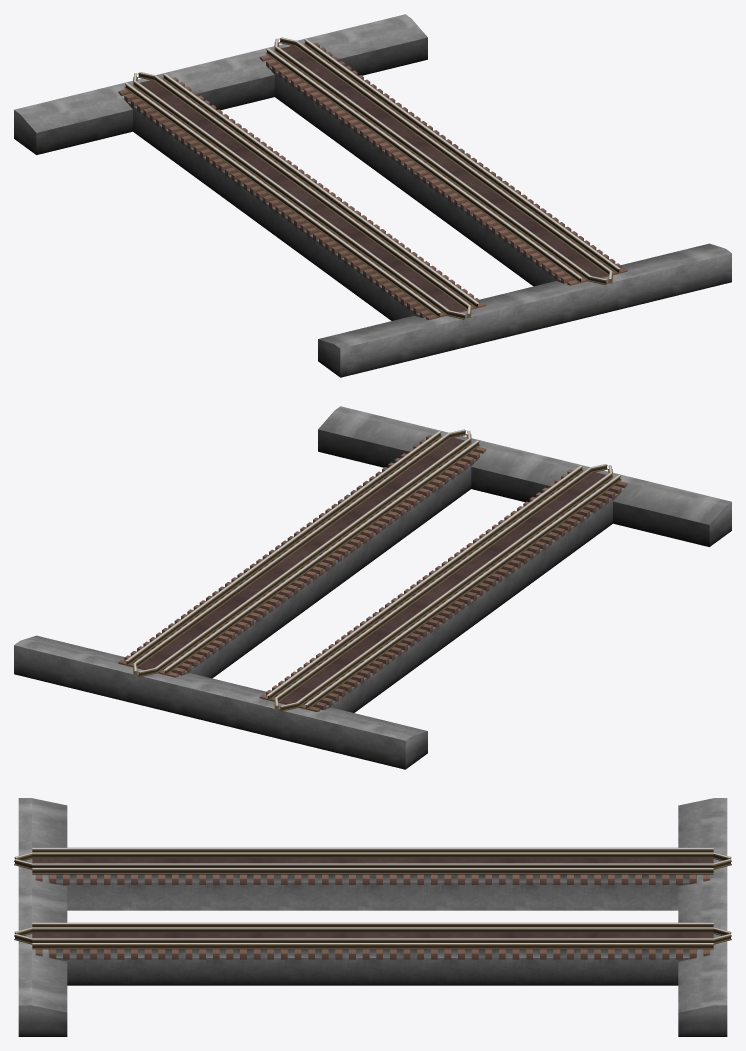
File: MEI_2RAIL_BRIDGE50_NOBANISTER.glb
3 renders of one model, top to bottom at view 1: azimuth 30°, elevation 25°; view 2: azimuth 150°, elevation 25°; view 3: azimuth 270°, elevation 25°, orthographic. The views are drawn at different scales.
Visible parts, largest first — view 1: obj16, J08, J00, obj8, obj10, obj4, obj9, obj11, obj5, obj12, bone0; view 2: obj16, J00, J08, obj8, obj10, bone0, obj11, obj5, obj9, obj12, obj4; view 3: obj16, J00, J08, obj10, obj8, obj9, obj12, obj5, obj11, obj4, bone0.
Part boxes in pixels (bbox=[...]): obj16: bbox=[124, 39, 621, 320]; J08: bbox=[318, 243, 731, 377]; J00: bbox=[14, 14, 427, 154]; obj8: bbox=[193, 98, 432, 181]; obj10: bbox=[350, 213, 589, 296]; obj4: bbox=[394, 245, 627, 319]; obj9: bbox=[275, 157, 508, 236]; obj11: bbox=[237, 130, 470, 208]; obj5: bbox=[313, 185, 546, 264]; obj12: bbox=[156, 70, 389, 149]; bone0: bbox=[118, 43, 351, 121]; obj16: bbox=[124, 431, 621, 712]; J00: bbox=[14, 635, 427, 769]; J08: bbox=[318, 406, 731, 546]; obj8: bbox=[193, 577, 432, 660]; obj10: bbox=[350, 462, 589, 545]; bone0: bbox=[118, 637, 351, 711]; obj11: bbox=[237, 549, 470, 628]; obj5: bbox=[313, 494, 546, 573]; obj9: bbox=[275, 522, 508, 600]; obj12: bbox=[156, 609, 389, 688]; obj4: bbox=[394, 435, 627, 513]; obj16: bbox=[32, 847, 713, 985]; J00: bbox=[678, 798, 731, 1036]; J08: bbox=[14, 798, 67, 1036]; obj10: bbox=[117, 874, 205, 959]; obj8: bbox=[458, 874, 546, 959]; obj9: bbox=[294, 874, 369, 959]; obj12: bbox=[553, 874, 628, 959]; obj5: bbox=[213, 874, 287, 959]; obj11: bbox=[376, 874, 451, 959]; obj4: bbox=[35, 874, 110, 959]; bone0: bbox=[635, 874, 709, 959].
Bounding box in the file's own units: 36 × 3.02 × 52.7.
Materials: 17 (14 with a texture image).
